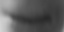LeftEyeFatigue: (1, 7, 56, 32)
